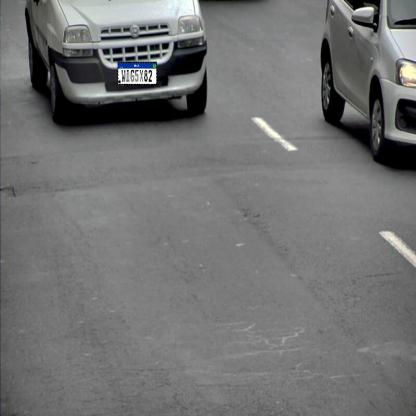PlacaM: (118, 62, 157, 85)
